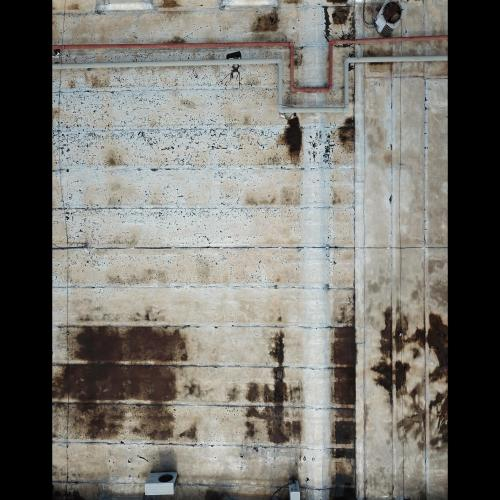conde: (374, 1, 409, 40), (143, 469, 183, 500), (284, 475, 302, 500)
